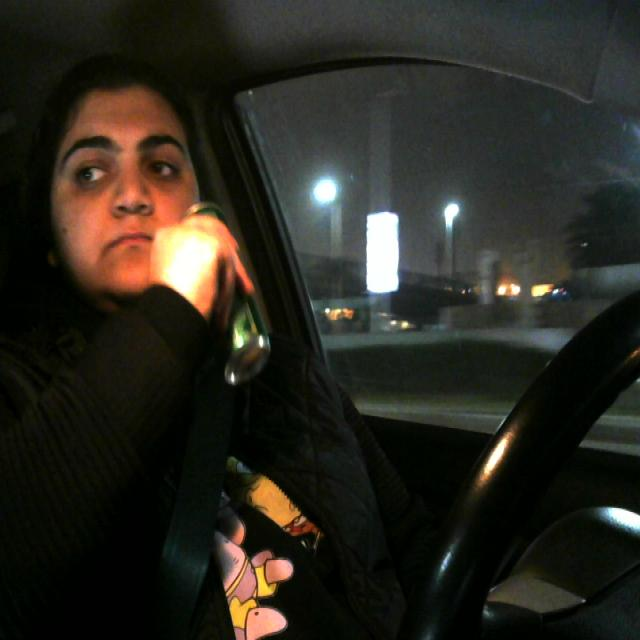drinking: (176, 204, 288, 392)
